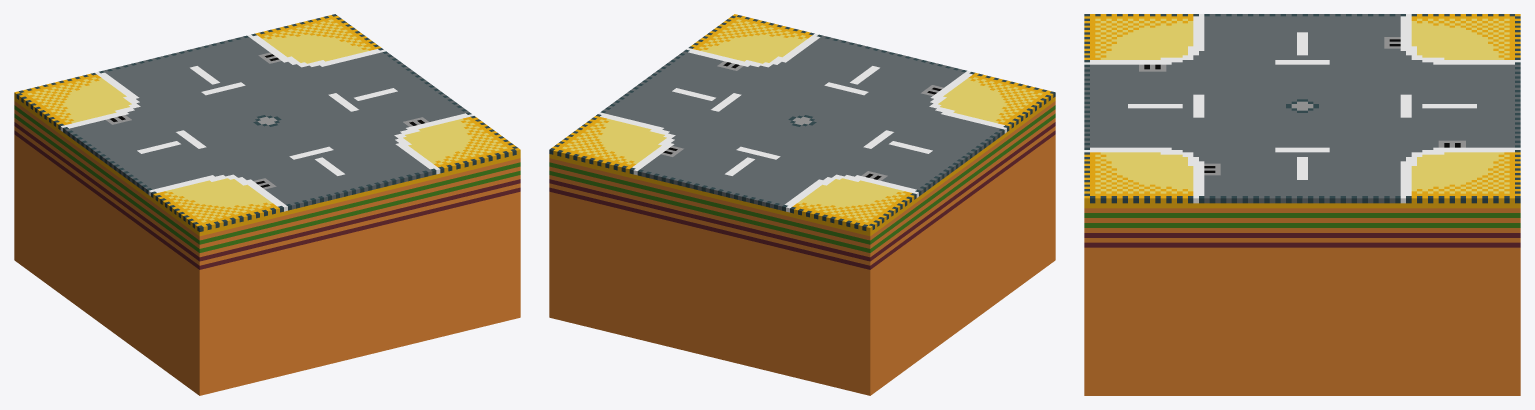
The model's file is sand_road_4_tile.obj.
The picture shows the model from 3 angles, left to right: view 1: azimuth 30°, elevation 25°; view 2: azimuth 150°, elevation 25°; view 3: azimuth 270°, elevation 25°; orthographic projection. The views are drawn at different scales.
Size of the model in its own units: 8 by 4 by 8.
1 material, 1 textured.
